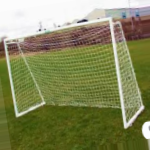goals: (3, 16, 145, 131)
